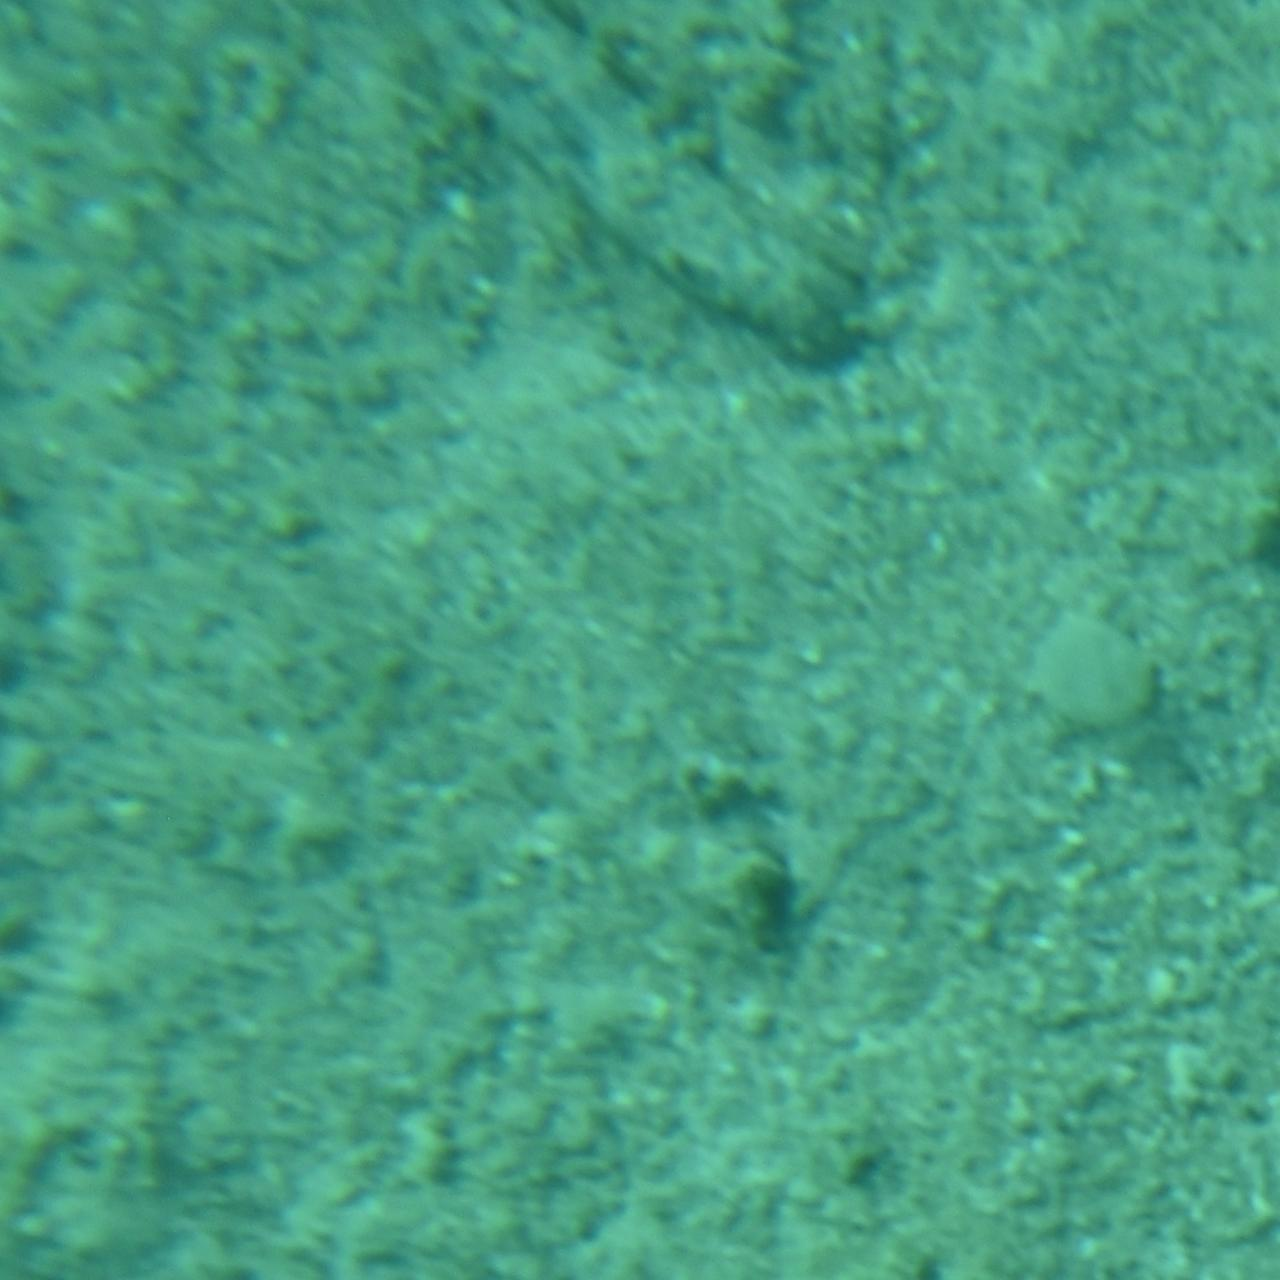Holothuria tubulosa: (385, 0, 895, 388)
